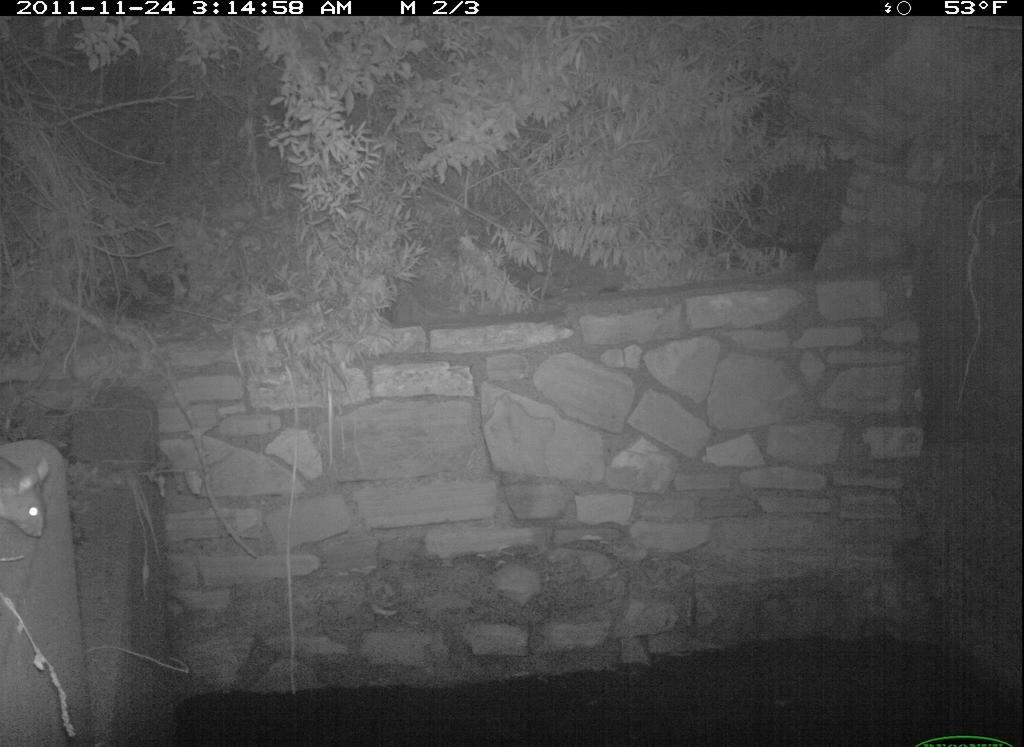rodent: (1, 433, 71, 569)
